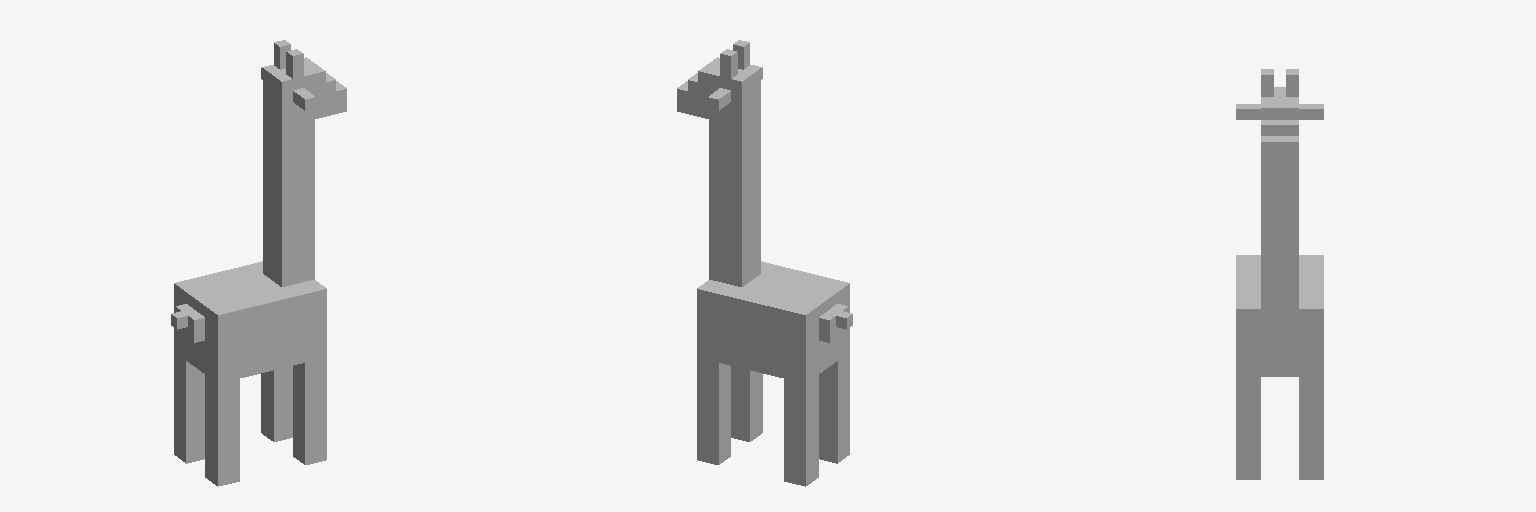
Rendered from giraffe1.obj.
3 views of the same model, side by side, from view 1: azimuth 30°, elevation 25°; view 2: azimuth 150°, elevation 25°; view 3: azimuth 270°, elevation 25° (orthographic).
Visible parts, largest first — view 1: giraffe1; view 2: giraffe1; view 3: giraffe1.
Part boxes in pixels (left/top/right/bottom): giraffe1: left=171, top=40, right=346, bottom=486; giraffe1: left=677, top=40, right=852, bottom=486; giraffe1: left=1236, top=69, right=1323, bottom=479.
Size of the model in its own units: 1.5 by 3.5 by 0.7.